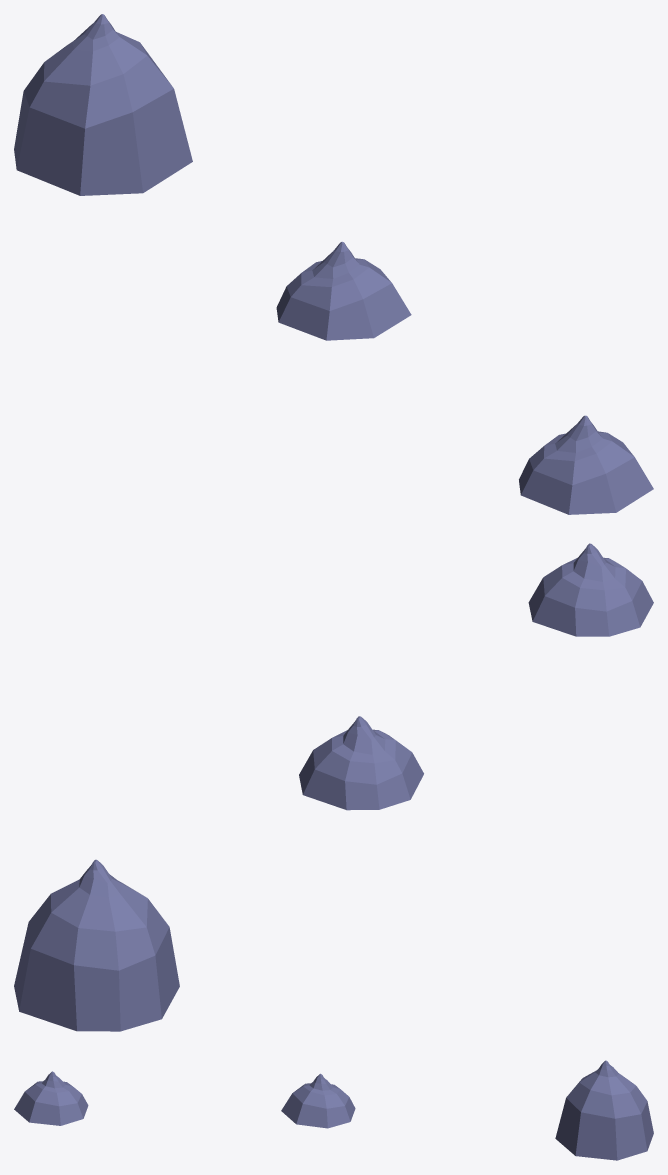
File: Backyard_Beets.fbx
3 renders of one model, top to bottom at view 1: azimuth 30°, elevation 25°; view 2: azimuth 150°, elevation 25°; view 3: azimuth 270°, elevation 25°, orthographic. The views are drawn at different scales.
Visible parts, largest first — view 1: Backyard_Beets; view 2: Backyard_Beets; view 3: Backyard_Beets.
Boxes of the visible parts, <box> form: Backyard_Beets: <box>14,14,653,514</box>; Backyard_Beets: <box>14,543,653,1031</box>; Backyard_Beets: <box>14,1060,653,1160</box>.
Size of the model in its own units: 19.69 by 17.61 by 128.
